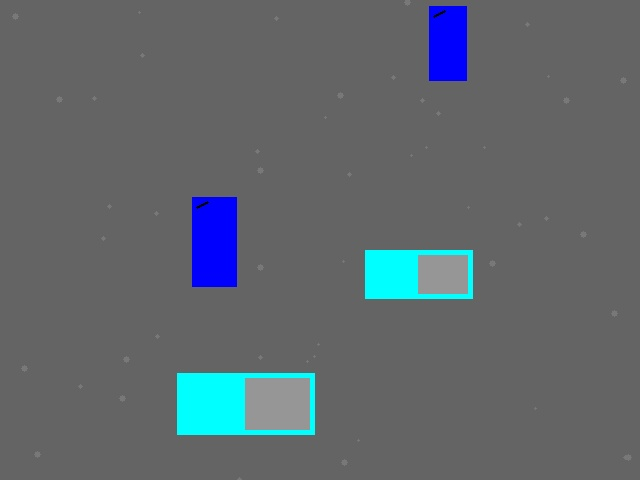motorcycle: (192, 197, 236, 286), (429, 6, 466, 80)
truck: (177, 373, 314, 434), (365, 250, 472, 298)
